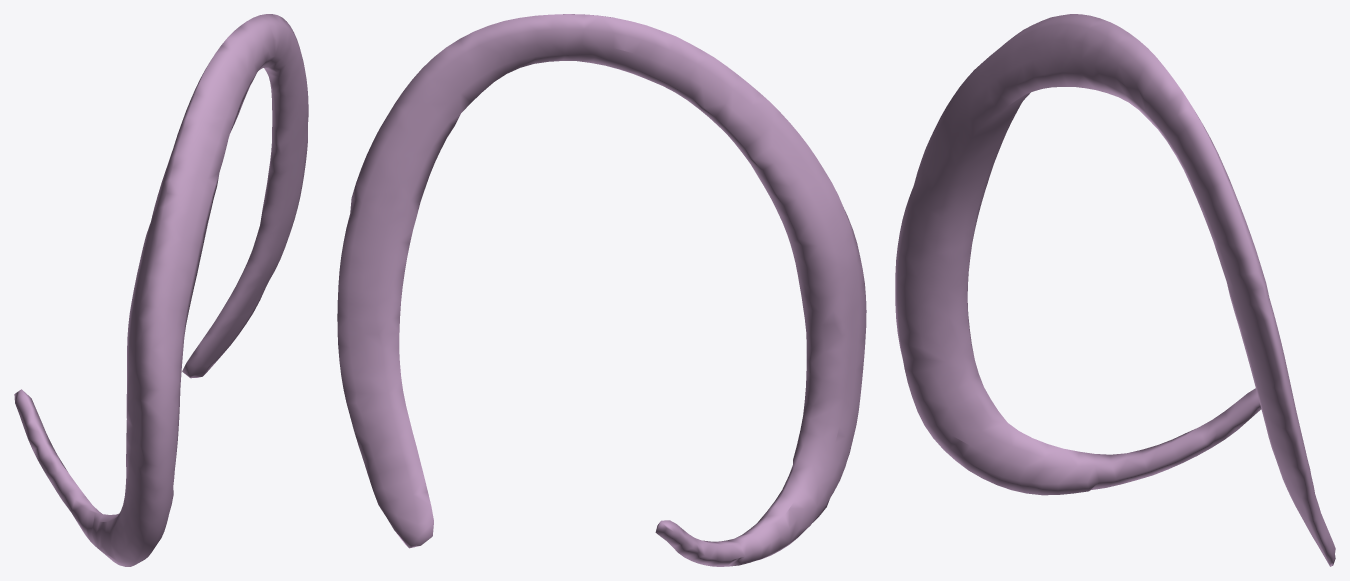
The picture shows the model from 3 angles, left to right: view 1: azimuth 30°, elevation 25°; view 2: azimuth 150°, elevation 25°; view 3: azimuth 270°, elevation 25°; orthographic projection. The views are drawn at different scales.
Parts seen in each view (by area): view 1: 左侧穹窿; view 2: 左侧穹窿; view 3: 左侧穹窿.
Boxes of the visible parts, x1,y1,x2,y2 form: 左侧穹窿: [14, 14, 308, 566]; 左侧穹窿: [337, 14, 866, 566]; 左侧穹窿: [895, 14, 1335, 566].
Bounding box in the file's own units: 0.045 × 0.0636 × 0.0457.
